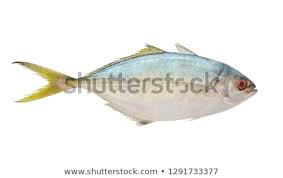Ikan Selar: (22, 47, 258, 124)
